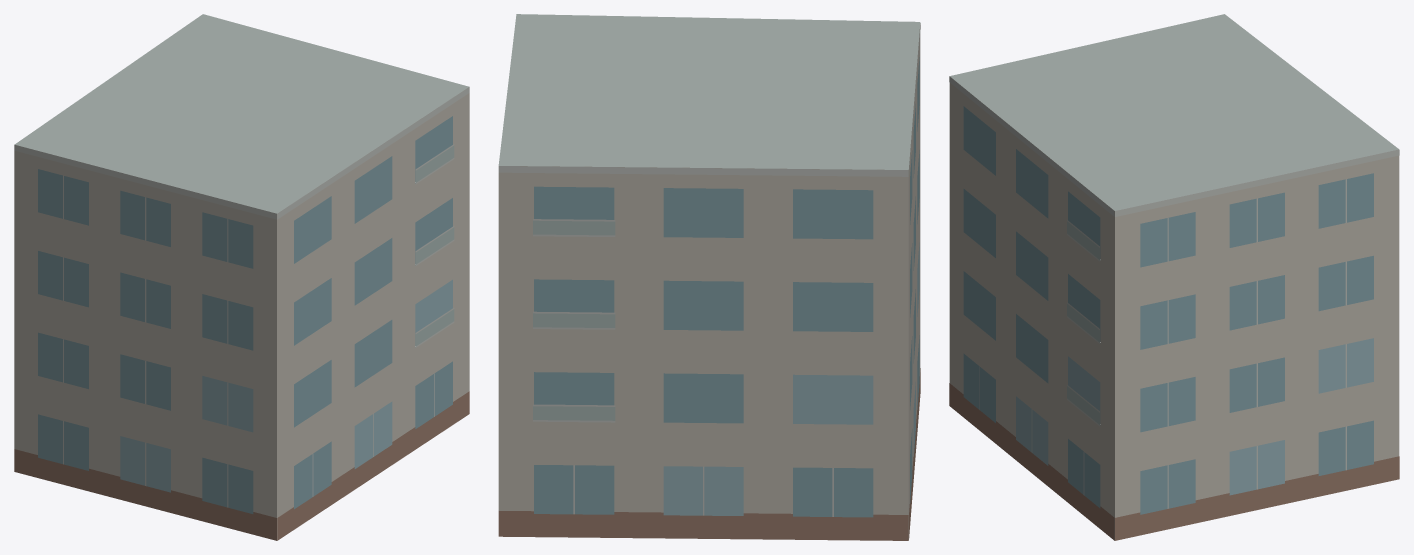
File: survey-upis-32726651.glb
3 views of the same model, side by side, from view 1: azimuth 30°, elevation 25°; view 2: azimuth 150°, elevation 25°; view 3: azimuth 270°, elevation 25° (orthographic). The views are drawn at different scales.
Visible parts, largest first — view 1: survey-upis-32726651.tmp; view 2: survey-upis-32726651.tmp; view 3: survey-upis-32726651.tmp.
Part boxes in pixels (left/top/right/bottom): survey-upis-32726651.tmp: left=14, top=14, right=469, bottom=540; survey-upis-32726651.tmp: left=498, top=14, right=920, bottom=540; survey-upis-32726651.tmp: left=949, top=14, right=1399, bottom=540.
Size of the model in its own units: 16.93 by 13.2 by 16.33.
